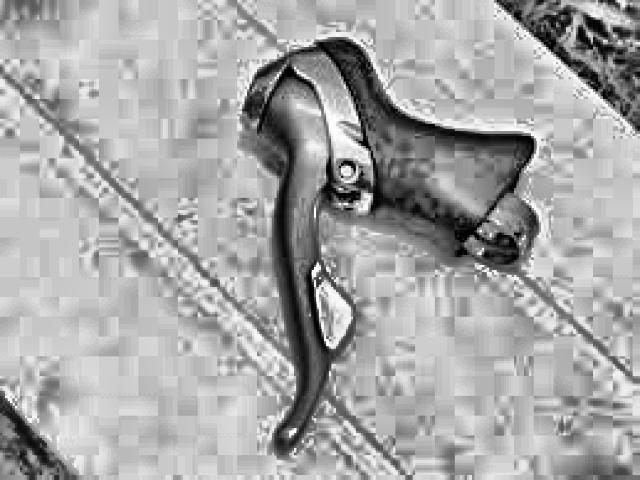sti_shifter: (238, 37, 543, 465)
